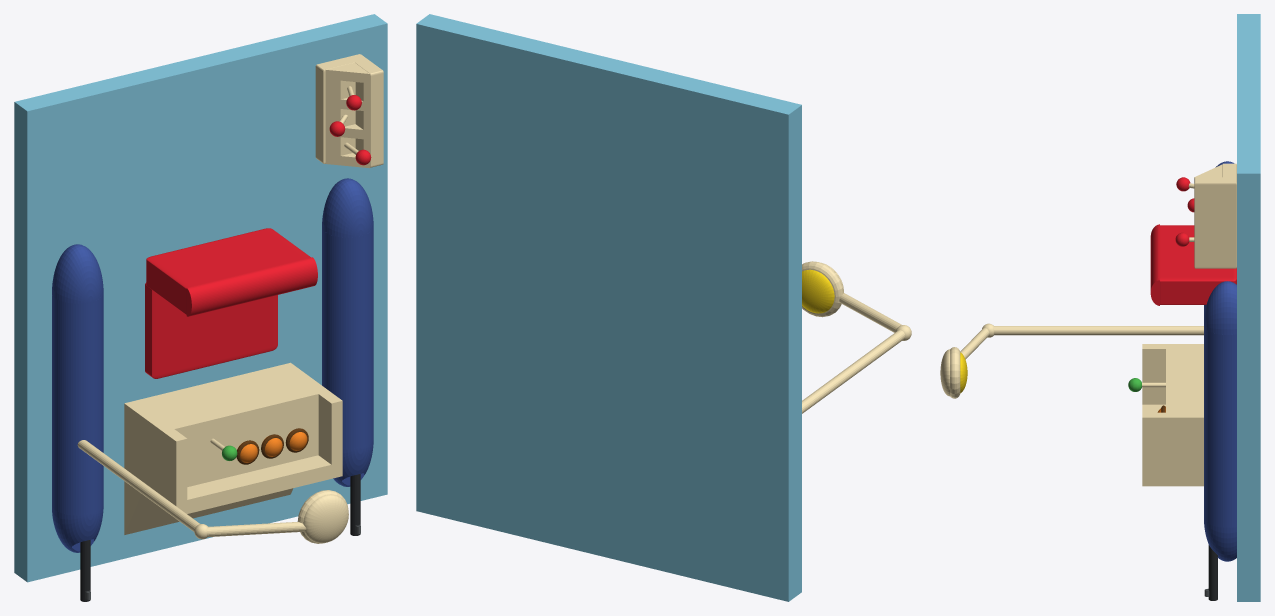
File: tinker.obj
The picture shows the model from 3 angles, left to right: view 1: azimuth 30°, elevation 25°; view 2: azimuth 150°, elevation 25°; view 3: azimuth 270°, elevation 25°; orthographic projection. The views are drawn at different scales.
Parts seen in each view (by area): view 1: group_8768998, group_16311991, group_3888547, group_15277357, group_2829873, group_16089887, group_6306067; view 2: group_8768998, group_16311991, group_16768282; view 3: group_16311991, group_8768998, group_3888547, group_15277357, group_2829873.
Boxes of the visible parts, x1,y1,x2,y2 form: group_8768998: [14, 14, 387, 582]; group_16311991: [77, 54, 383, 543]; group_3888547: [52, 178, 373, 552]; group_15277357: [145, 95, 371, 378]; group_2829873: [80, 474, 360, 601]; group_16089887: [237, 430, 307, 462]; group_6306067: [236, 428, 308, 464]; group_8768998: [416, 14, 801, 601]; group_16311991: [802, 261, 911, 413]; group_16768282: [802, 269, 834, 313]; group_16311991: [940, 163, 1236, 486]; group_8768998: [1237, 14, 1260, 601]; group_3888547: [1204, 161, 1236, 561]; group_15277357: [1150, 177, 1236, 305]; group_2829873: [1208, 545, 1217, 600].
Bounding box in the file's own units: 80 × 104 × 67.75.
